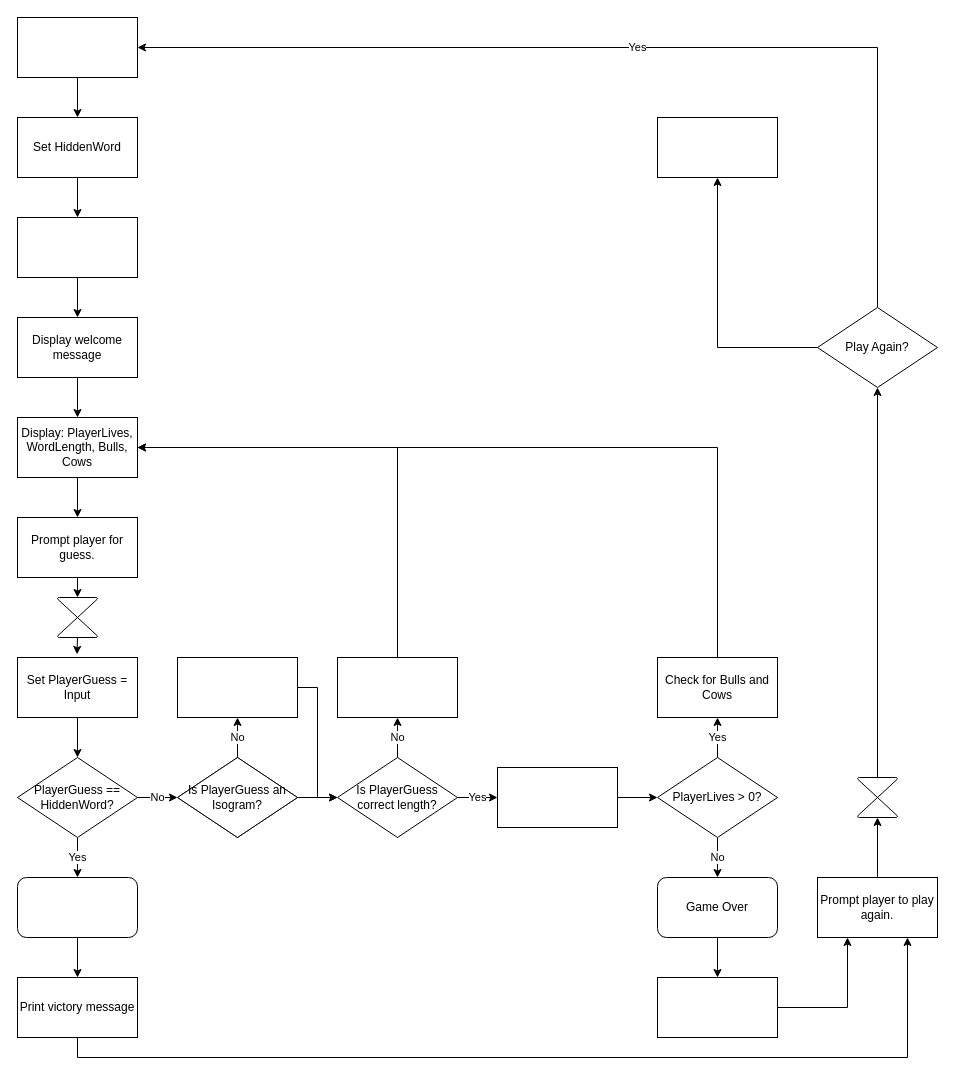
Image size: 955x1083. Some labels were removed from this diagram. Each missing label, with the centre of its shape:
--UserLives: the point at 557,797
Exit Game: the point at 717,147
Player Wins: the point at 77,907
Print game over message: the point at 717,1007
Remind player of the HiddenWord length: the point at 397,687
Remind user that word must be an isogram.: the point at 237,687
Set PlayerLives = 5: the point at 77,247
Start Game: the point at 77,47
